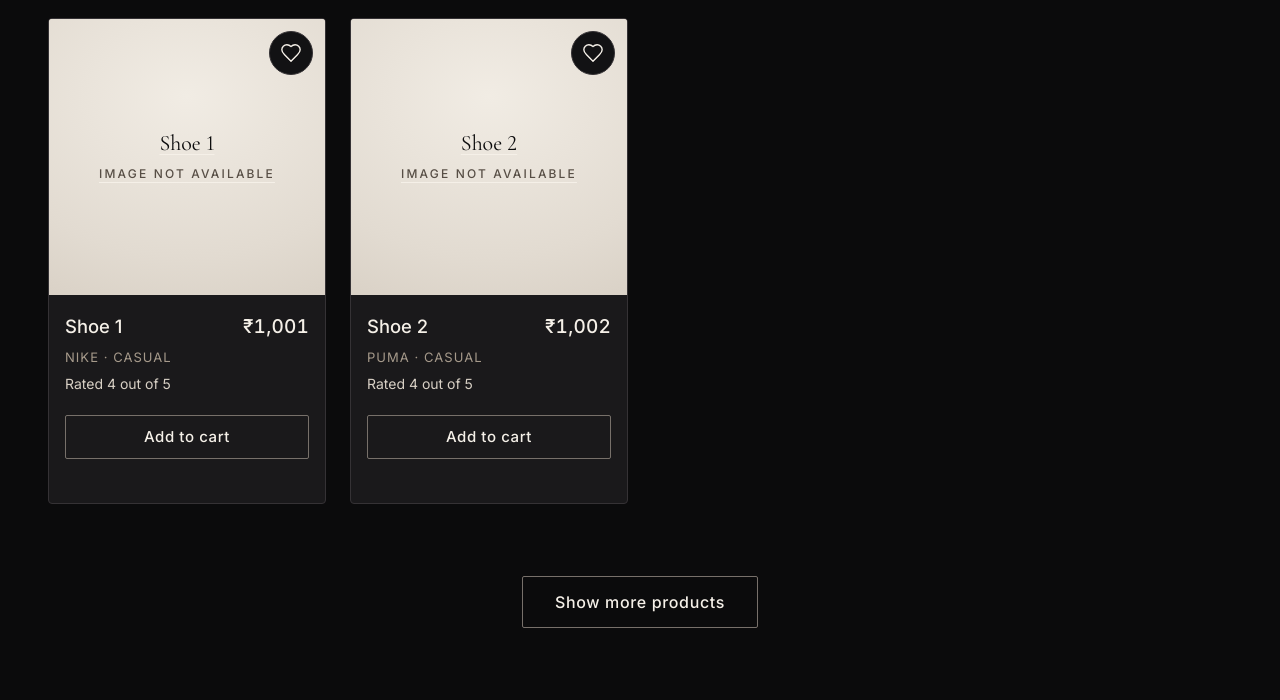
Scenario: a failed Show more keeps the products already shown
(page scrolled)
Click the button "Show more products" at [640, 602], box top-left (522, 576), bottom-right (758, 628)
(page scrolled)
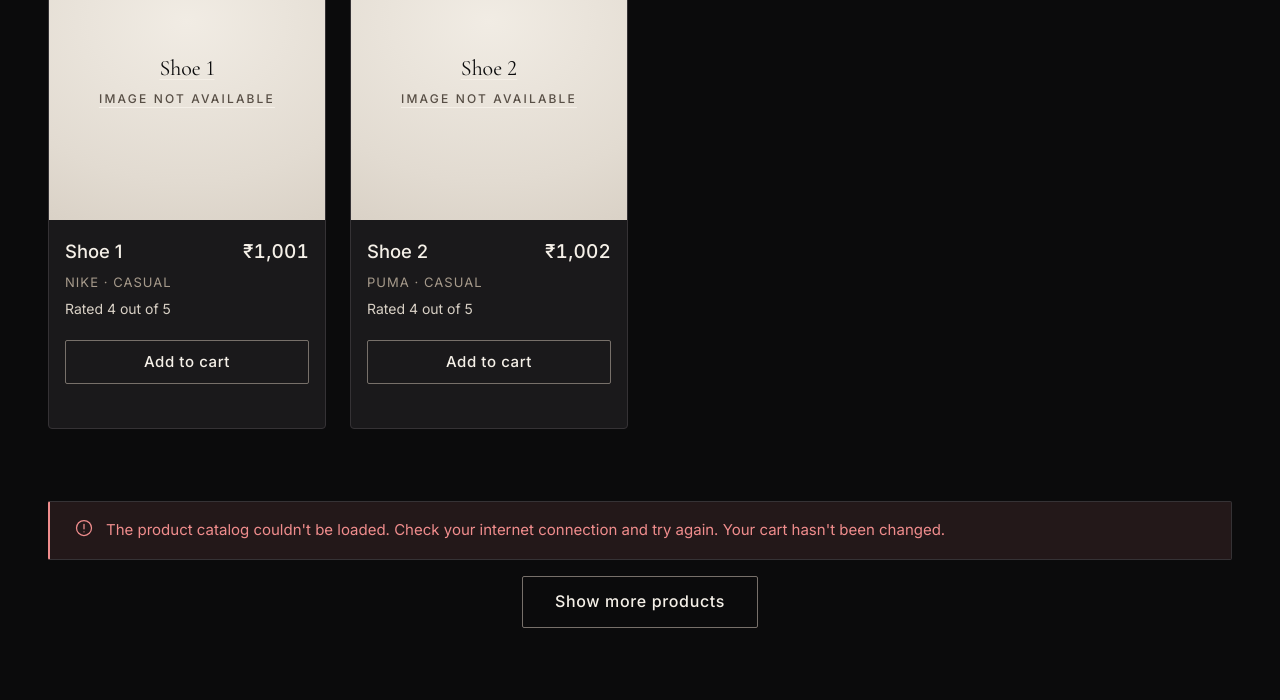
Result: the message shows "couldn't be loaded. Check your internet connection" at top-left (106, 520), bottom-right (945, 539)
